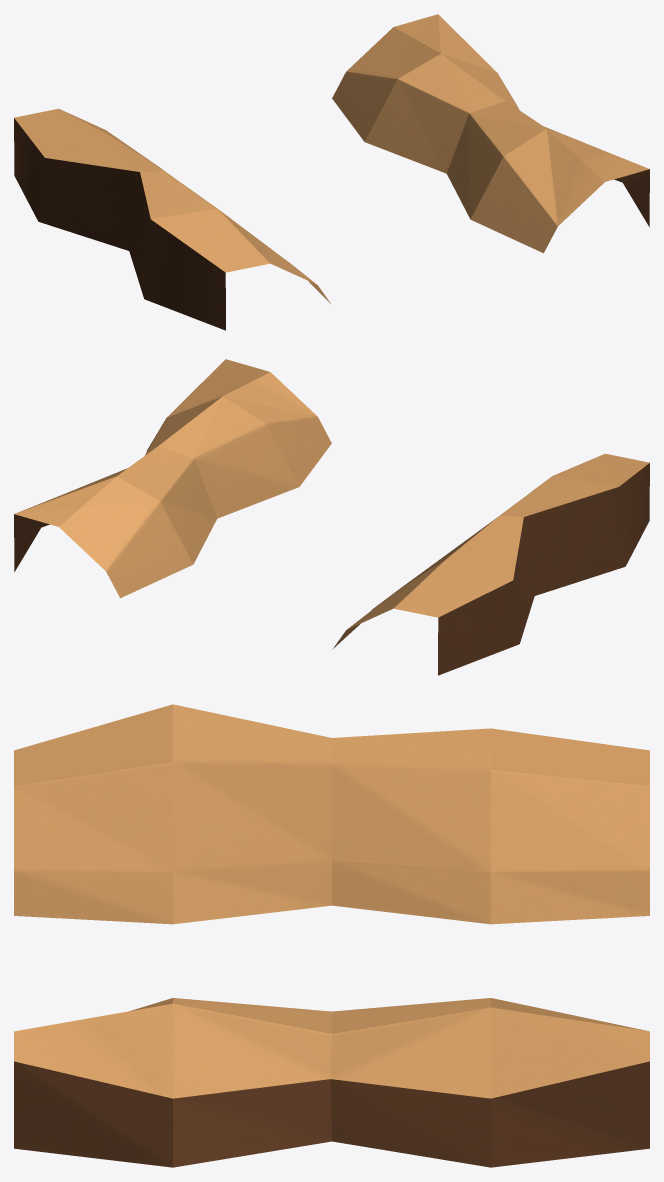
The model's file is TroncPerce_TrouAB.FBX.
The picture shows the model from 3 angles, top to bottom: view 1: azimuth 30°, elevation 25°; view 2: azimuth 150°, elevation 25°; view 3: azimuth 270°, elevation 25°; orthographic projection. The views are drawn at different scales.
Visible parts, largest first — view 1: TroncPerce_TrouAB; view 2: TroncPerce_TrouAB; view 3: TroncPerce_TrouAB.
Boxes of the visible parts, left/top/right/bottom form: TroncPerce_TrouAB: left=14, top=14, right=649, bottom=330; TroncPerce_TrouAB: left=14, top=359, right=649, bottom=675; TroncPerce_TrouAB: left=14, top=704, right=649, bottom=1167.
Size of the model in its own units: 2.26 by 0.3534 by 1.73.
